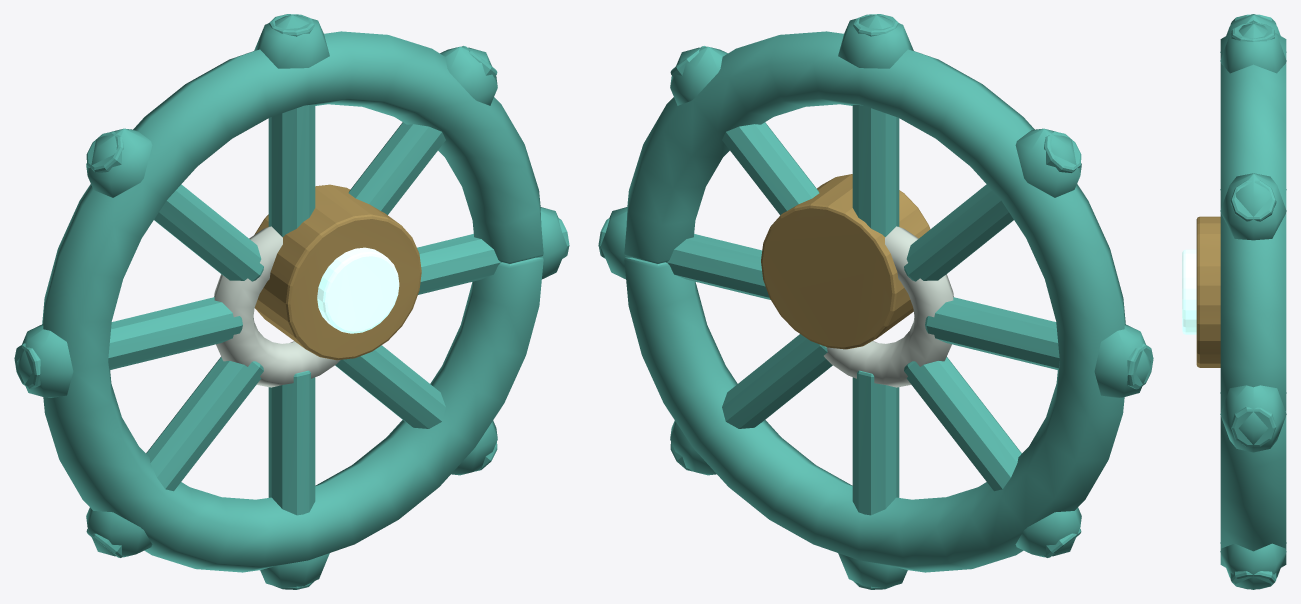
The model's file is item_063.glb.
3 renders of one model, left to right at view 1: azimuth 30°, elevation 25°; view 2: azimuth 150°, elevation 25°; view 3: azimuth 270°, elevation 25°, orthographic. The views are drawn at different scales.
Parts seen in each view (by area): view 1: Item_063_wheel_spoke_guard; view 2: Item_063_wheel_spoke_guard; view 3: Item_063_wheel_spoke_guard.
Boxes of the visible parts, x1,y1,x2,y2 form: Item_063_wheel_spoke_guard: (14, 14, 569, 589); Item_063_wheel_spoke_guard: (598, 14, 1153, 589); Item_063_wheel_spoke_guard: (1182, 14, 1286, 589).
Bounding box in the file's own units: 0.646 × 0.646 × 0.11.
